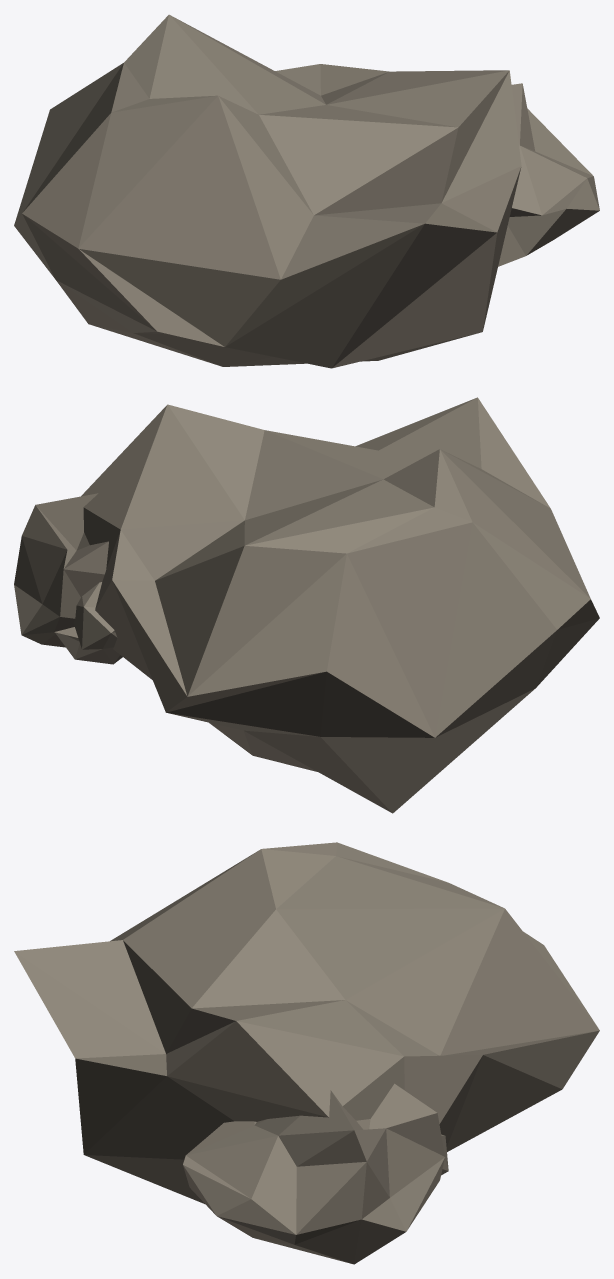
Rendered from roca_1.glb.
3 views of the same model, one above another, from view 1: azimuth 30°, elevation 25°; view 2: azimuth 150°, elevation 25°; view 3: azimuth 270°, elevation 25° (orthographic). The views are drawn at different scales.
Visible parts, largest first — view 1: roca_1; view 2: roca_1; view 3: roca_1.
Boxes of the visible parts, x1,y1,x2,y2 form: roca_1: [14, 14, 599, 368]; roca_1: [14, 397, 599, 813]; roca_1: [14, 842, 599, 1264].
Size of the model in its own units: 0.4344 by 0.234 by 0.3964.
